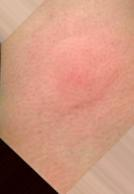Spider: (29, 0, 133, 151)
